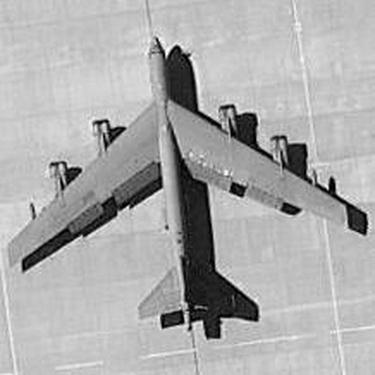airplane: (4, 23, 361, 350)
